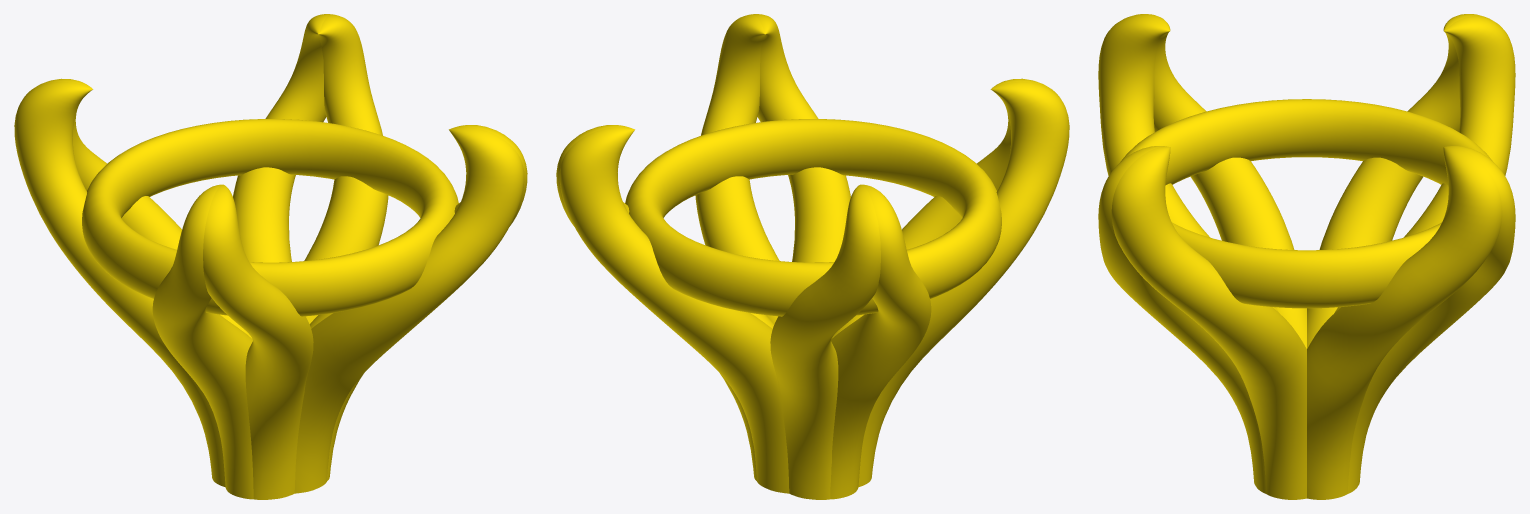
The model's file is ROUND.glb.
3 views of the same model, side by side, from view 1: azimuth 30°, elevation 25°; view 2: azimuth 150°, elevation 25°; view 3: azimuth 270°, elevation 25° (orthographic). The views are drawn at different scales.
Parts seen in each view (by area): view 1: HD-Tulip-Round-103dm; view 2: HD-Tulip-Round-103dm; view 3: HD-Tulip-Round-103dm.
Boxes of the visible parts, x1,y1,x2,y2 form: HD-Tulip-Round-103dm: [14, 14, 527, 499]; HD-Tulip-Round-103dm: [556, 14, 1069, 499]; HD-Tulip-Round-103dm: [1098, 14, 1515, 499].
Bounding box in the file's own units: 2.98 × 3.08 × 2.98.
